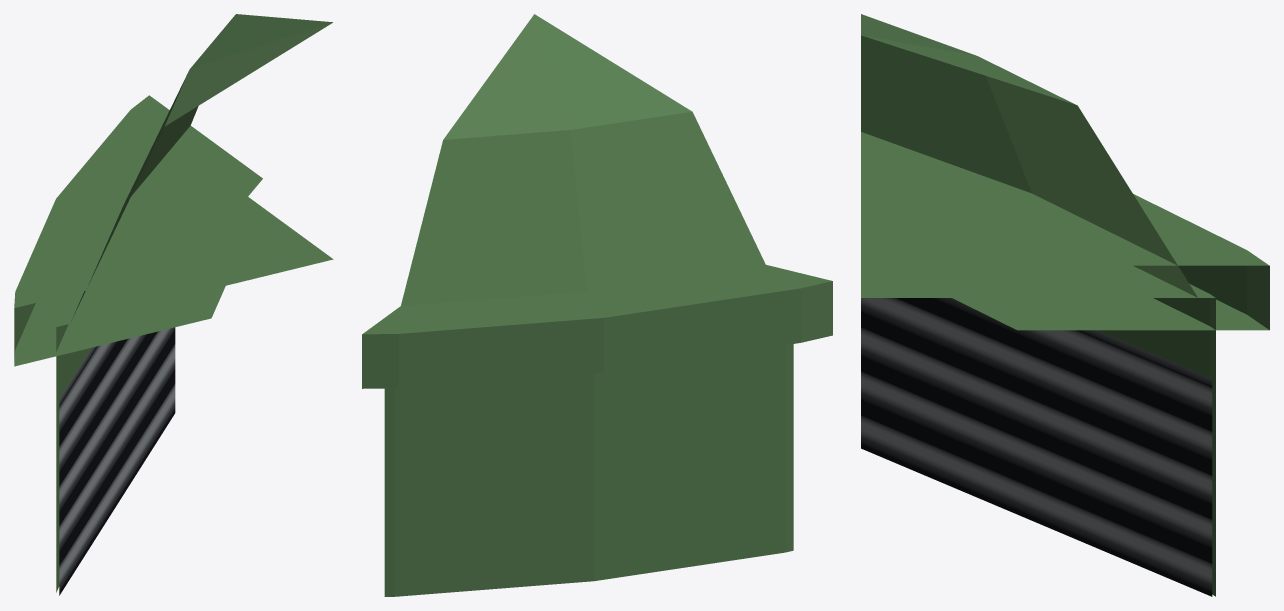
File: cell_61.obj
The picture shows the model from 3 angles, left to right: view 1: azimuth 30°, elevation 25°; view 2: azimuth 150°, elevation 25°; view 3: azimuth 270°, elevation 25°; orthographic projection. The views are drawn at different scales.
Bounding box in the file's own units: 0.2293 × 0.3476 × 0.2293.
